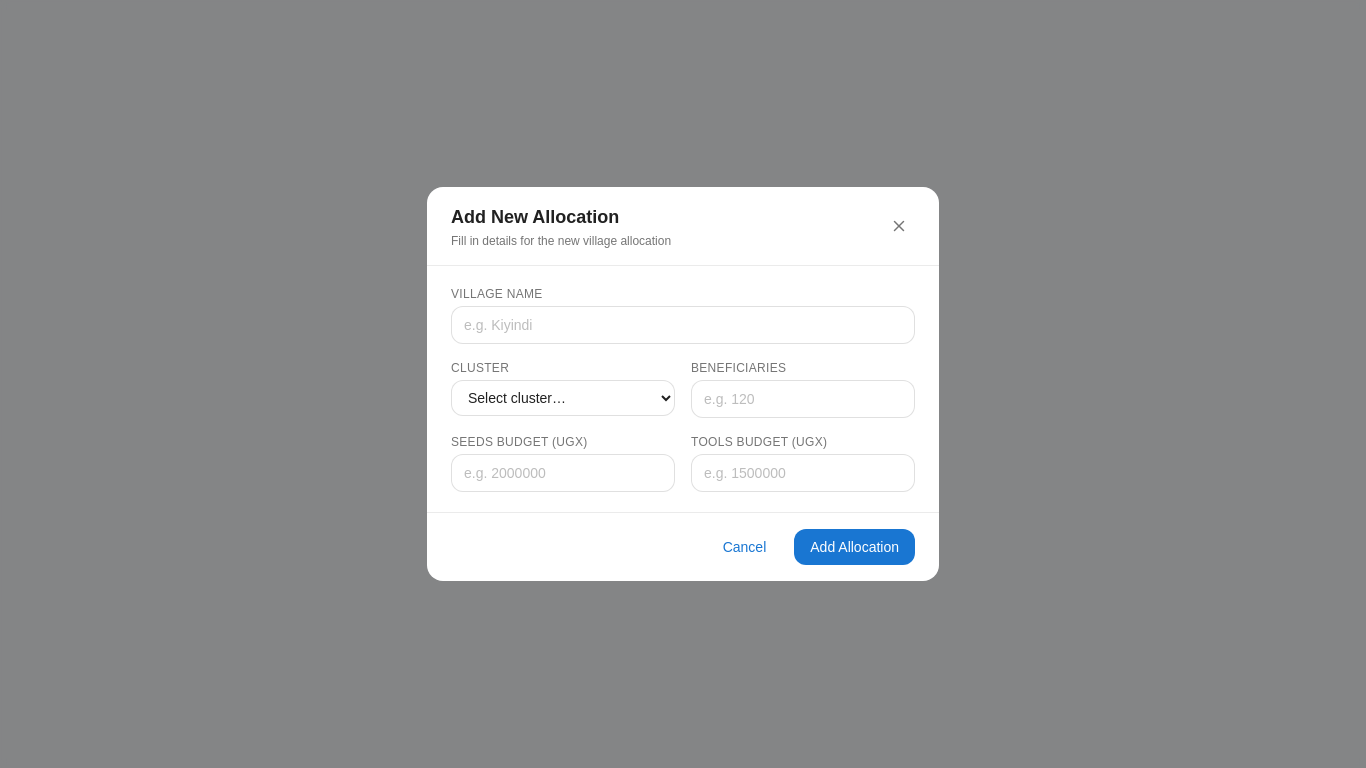
Test: validation › rejects beneficiaries > 10,000
Step 1. Type "99999" into the number field with placeholder "e.g. 120" → (803, 399), box [691,380,915,418]
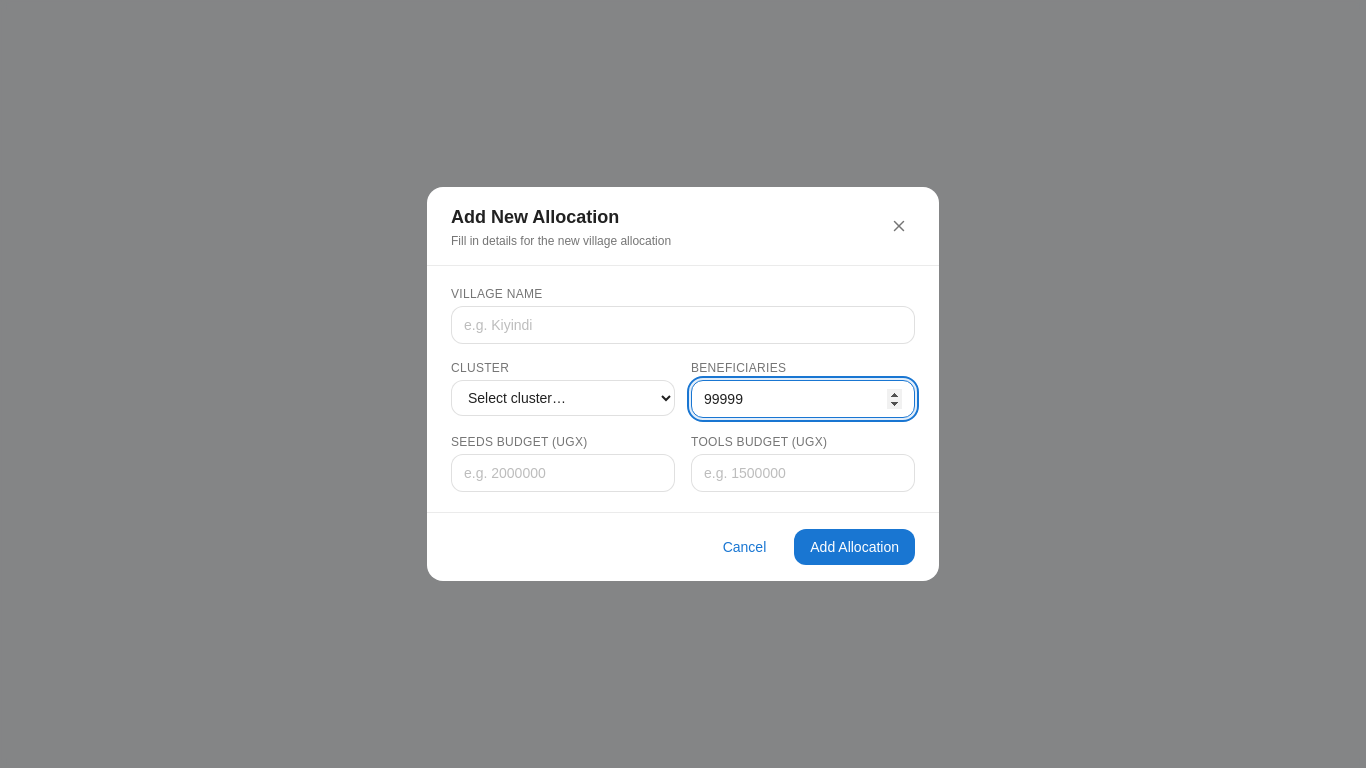
Step 2. Click the button "Add Allocation" → (855, 547), box [794,529,915,565]
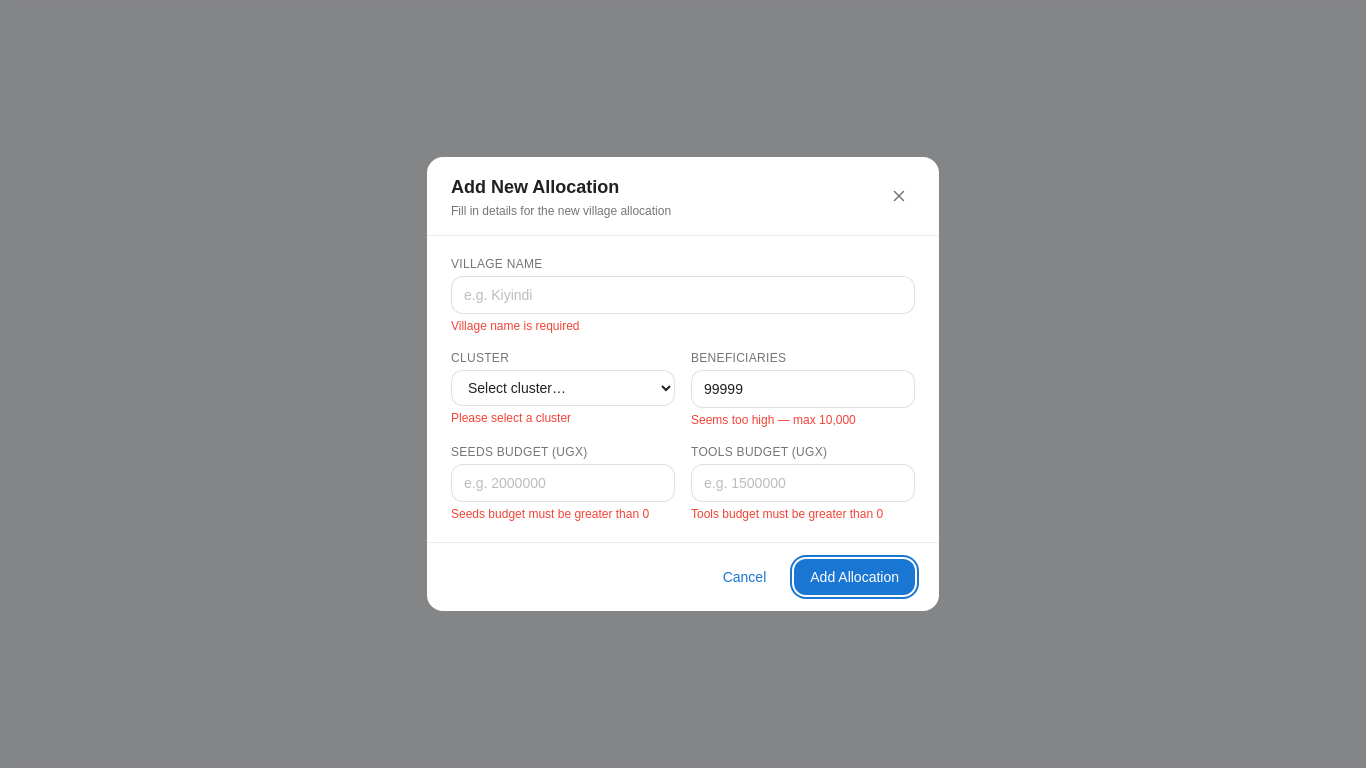
Expected: the text "Seems too high — max 10,000" is shown, [691,413,856,427]
